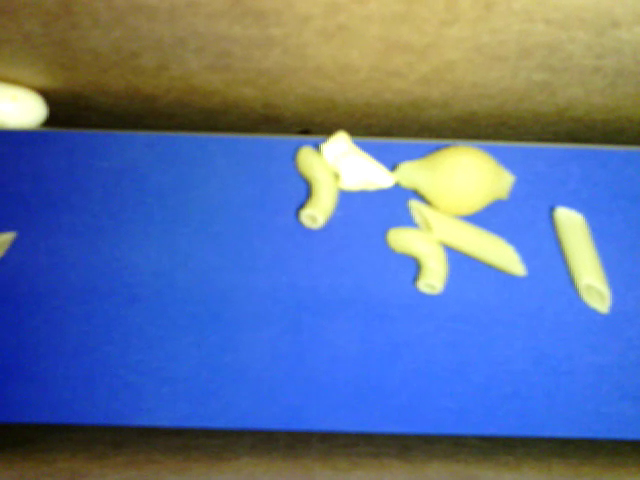elbow: (387, 225, 449, 295), (296, 143, 339, 229)
penne: (406, 198, 529, 277), (555, 205, 613, 314)
shell: (391, 145, 516, 215)
